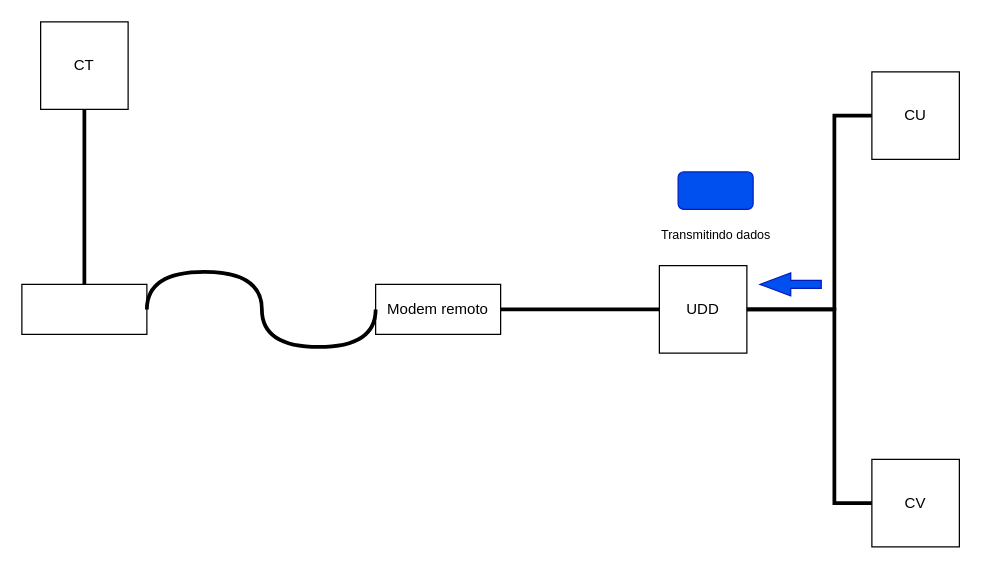
The diagram is 981 pixels wide and 569 high, and some of its shapes have lost their labels. Here are the shapes that lost their labels. From the top down, the centre of each, then its label:
At pixel 715 190: "2 (TD)".
At pixel 84 308: "Modem local".
